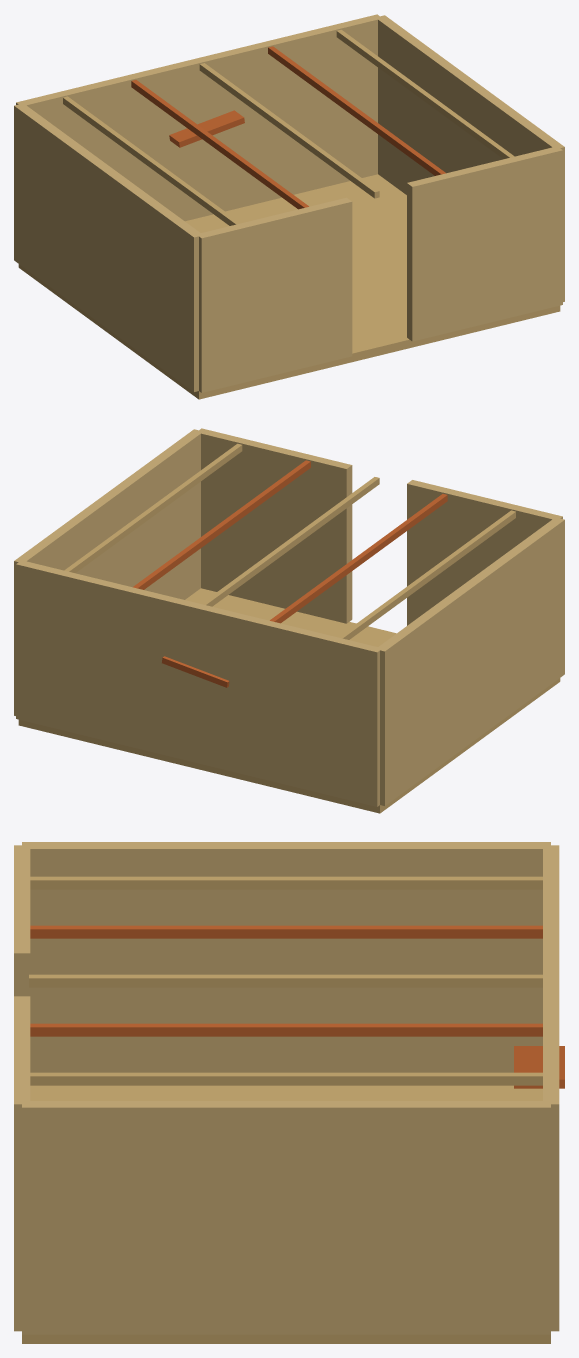
File: rope_station.glb
3 views of the same model, one above another, from view 1: azimuth 30°, elevation 25°; view 2: azimuth 150°, elevation 25°; view 3: azimuth 270°, elevation 25° (orthographic). The views are drawn at different scales.
Parts seen in each view (by area): view 1: wall_north, wall_west, wall_south_right, wall_south_left, wall_east, floor, ceiling_beam_0, ceiling_beam_2, ceiling_beam_-1, ceiling_beam_1, ceiling_beam_-2, purpose_rope_bridge_station; view 2: wall_north, wall_west, wall_south_right, wall_east, wall_south_left, floor, ceiling_beam_0, ceiling_beam_2, ceiling_beam_-1, ceiling_beam_1, ceiling_beam_-2, purpose_rope_bridge_station; view 3: wall_east, wall_west, floor, ceiling_beam_0, ceiling_beam_-2, ceiling_beam_-1, ceiling_beam_1, ceiling_beam_2, wall_north, wall_south_right, wall_south_left, purpose_rope_bridge_station.
Part boxes in pixels (x1=…): wall_north: x1=16, y1=14, x2=382, y2=221; wall_west: x1=14, y1=104, x2=203, y2=391; wall_south_right: x1=407, y1=146, x2=562, y2=341; wall_south_left: x1=199, y1=197, x2=352, y2=392; wall_east: x1=377, y1=15, x2=564, y2=301; floor: x1=18, y1=174, x2=560, y2=399; ceiling_beam_0: x1=199, y1=63, x2=379, y2=198; ceiling_beam_2: x1=336, y1=29, x2=514, y2=159; ceiling_beam_-1: x1=131, y1=80, x2=308, y2=209; ceiling_beam_1: x1=268, y1=46, x2=445, y2=175; ceiling_beam_-2: x1=63, y1=96, x2=240, y2=225; purpose_rope_bridge_station: x1=169, y1=110, x2=244, y2=147; wall_north: x1=16, y1=561, x2=382, y2=806; wall_west: x1=376, y1=517, x2=564, y2=805; wall_south_right: x1=197, y1=428, x2=352, y2=623; wall_east: x1=14, y1=429, x2=203, y2=715; wall_south_left: x1=407, y1=480, x2=562, y2=625; floor: x1=18, y1=588, x2=560, y2=813; ceiling_beam_0: x1=201, y1=477, x2=379, y2=606; ceiling_beam_2: x1=64, y1=443, x2=242, y2=573; ceiling_beam_-1: x1=270, y1=494, x2=447, y2=623; ceiling_beam_1: x1=133, y1=460, x2=310, y2=589; ceiling_beam_-2: x1=338, y1=510, x2=515, y2=639; purpose_rope_bridge_station: x1=162, y1=656, x2=229, y2=687; wall_east: x1=22, y1=1101, x2=550, y2=1334; wall_west: x1=22, y1=842, x2=550, y2=1072; floor: x1=22, y1=1085, x2=550, y2=1343; ceiling_beam_0: x1=29, y1=974, x2=542, y2=987; ceiling_beam_-2: x1=30, y1=876, x2=542, y2=889; ceiling_beam_-1: x1=30, y1=925, x2=542, y2=938; ceiling_beam_1: x1=30, y1=1023, x2=542, y2=1036; ceiling_beam_2: x1=30, y1=1072, x2=542, y2=1085; wall_north: x1=543, y1=845, x2=559, y2=1331; wall_south_right: x1=14, y1=996, x2=30, y2=1331; wall_south_left: x1=14, y1=845, x2=30, y2=996; purpose_rope_bridge_station: x1=514, y1=1046, x2=564, y2=1088.
Size of what is drawn, in the model's own units: 13.55 by 5.7 by 11.88.
